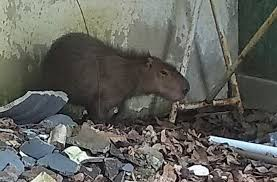capivara: (40, 30, 192, 132)
